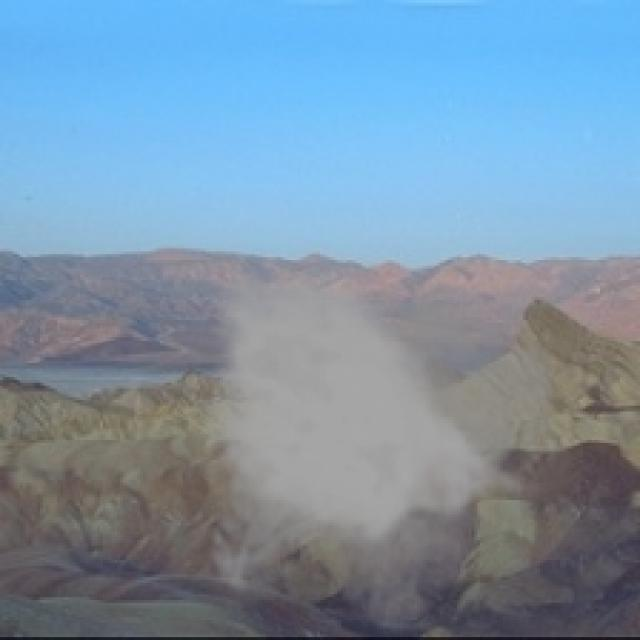smoke: (197, 255, 560, 634)
